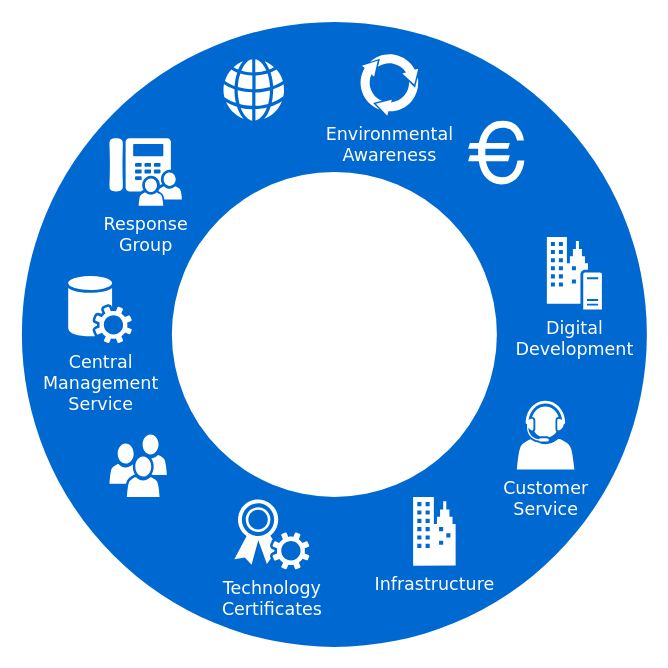
Image size: 668x668. Some labels were removed from this diagram. The centre of each missing label's shape, as x and y in pixels:
"Community" belongs at (x=137, y=465).
"Finance" belongs at (x=496, y=152).
"Global Partnerships" belongs at (x=253, y=89).
"Vulnerability Management Model" belongs at (x=333, y=333).
